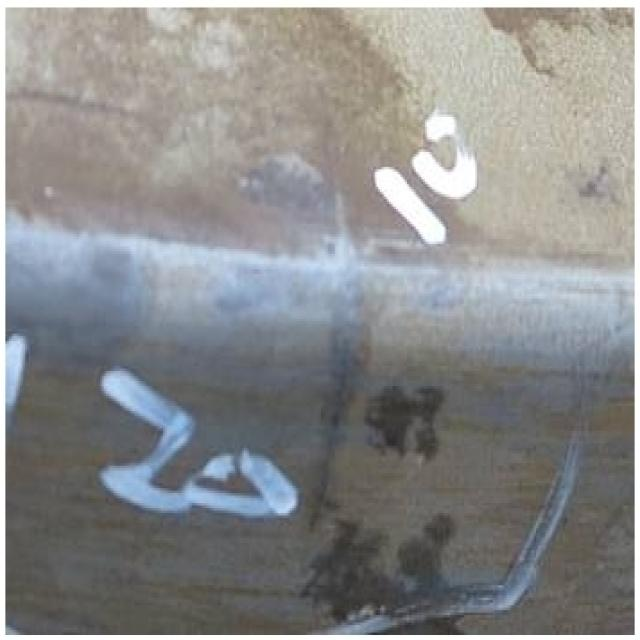Brake_Thermal_Cracks: (309, 188, 363, 536)
